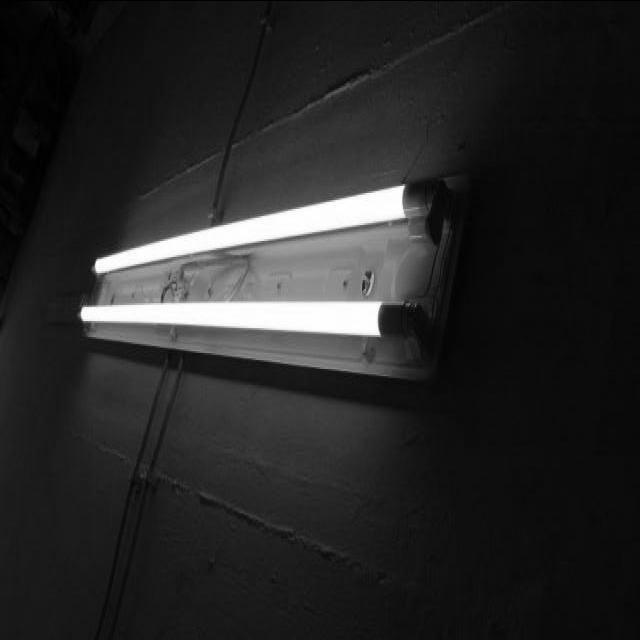light: (91, 180, 426, 274), (78, 298, 406, 336)
